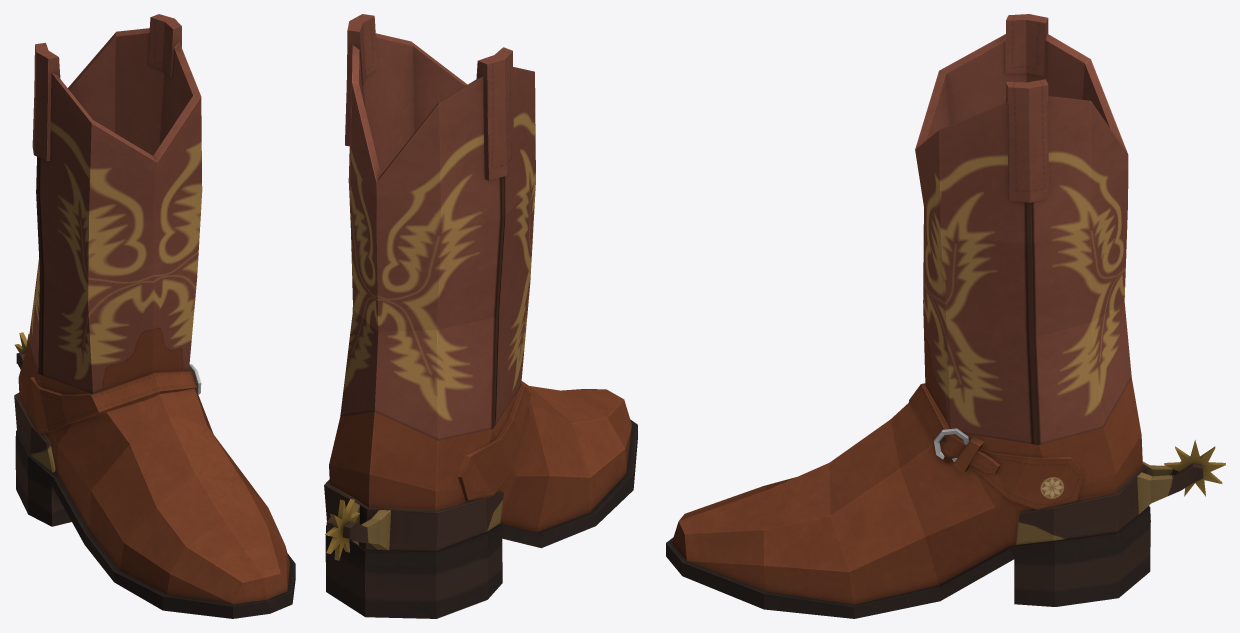
File: cowboyBoot.obj
The picture shows the model from 3 angles, left to right: view 1: azimuth 30°, elevation 25°; view 2: azimuth 150°, elevation 25°; view 3: azimuth 270°, elevation 25°; orthographic projection. The views are drawn at different scales.
Parts seen in each view (by area): view 1: CowboyBoots_Mesh.001; view 2: CowboyBoots_Mesh.001; view 3: CowboyBoots_Mesh.001.
Part boxes in pixels (box(x1,y1,x2,y2)): CowboyBoots_Mesh.001: box(14, 14, 295, 618); CowboyBoots_Mesh.001: box(324, 14, 637, 618); CowboyBoots_Mesh.001: box(666, 14, 1225, 618).
Bounding box in the file's own units: 0.9083 × 2.58 × 2.51.
